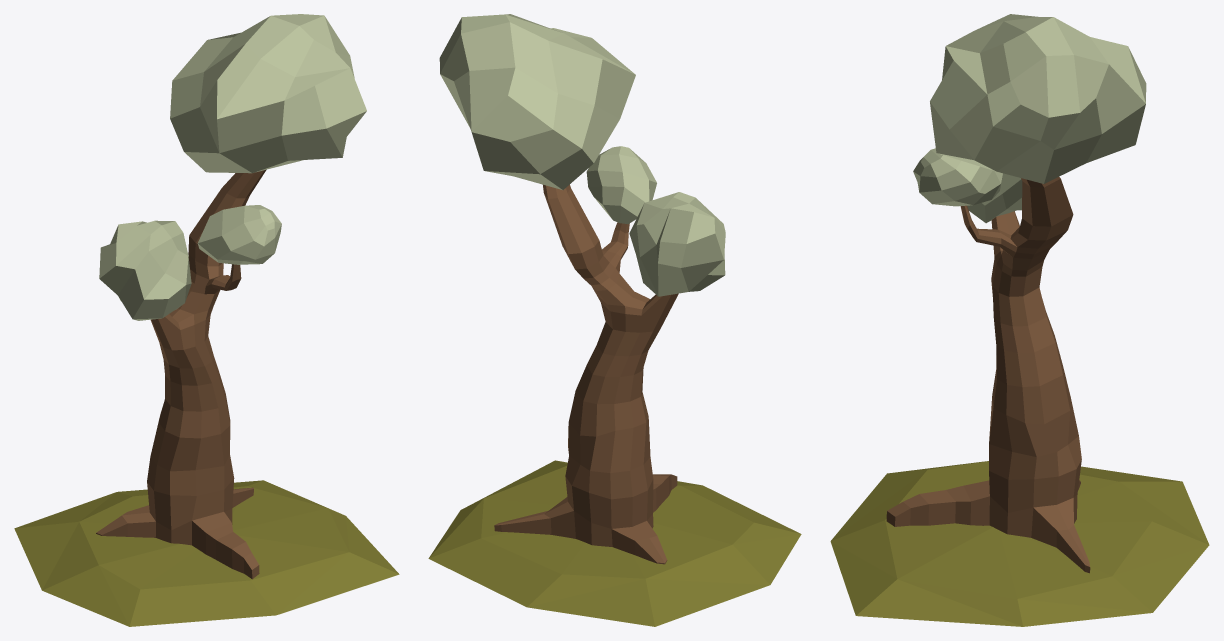
Rendered from Oak.fbx.
3 renders of one model, left to right at view 1: azimuth 30°, elevation 25°; view 2: azimuth 150°, elevation 25°; view 3: azimuth 270°, elevation 25°, orthographic. The views are drawn at different scales.
Visible parts, largest first — view 1: Oak; view 2: Oak; view 3: Oak.
Boxes of the visible parts, left/top/right/bottom form: Oak: left=14, top=14, right=399, bottom=626; Oak: left=428, top=14, right=801, bottom=626; Oak: left=830, top=14, right=1209, bottom=626.
Bounding box in the file's own units: 260 × 239 × 401.
